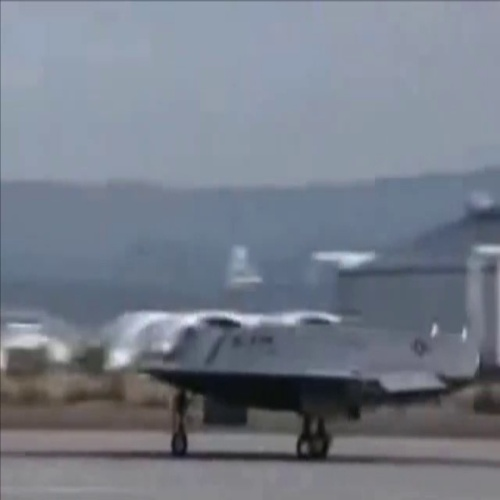uav: (131, 310, 488, 464)
